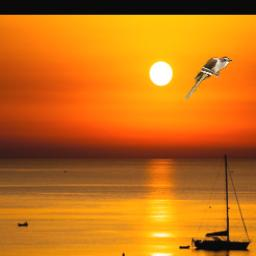Cuckoo: (185, 56, 233, 99)
